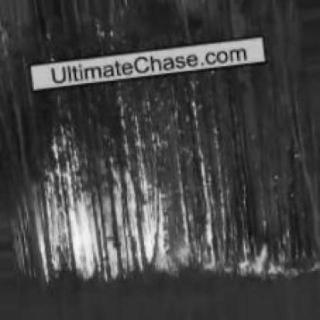Fire: (7, 103, 309, 280)
